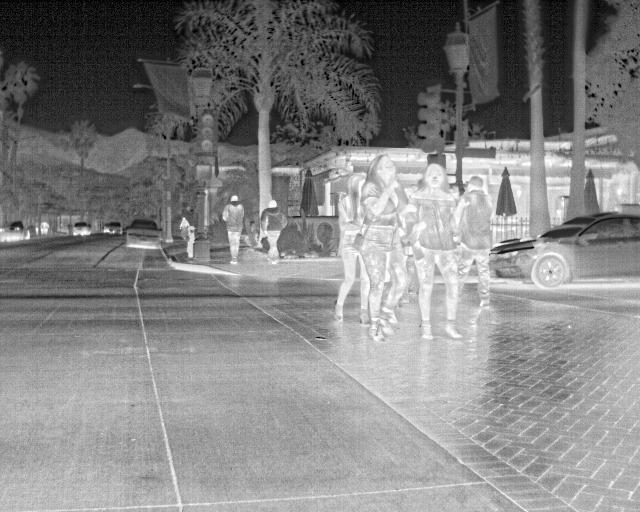bicycle: (486, 209, 637, 290), (125, 218, 163, 251), (1, 221, 30, 245), (69, 223, 96, 236), (101, 221, 122, 237)
empty: (403, 162, 468, 342), (353, 150, 409, 339), (330, 168, 372, 325), (450, 176, 495, 309), (254, 197, 288, 263), (220, 192, 244, 267), (178, 213, 192, 242)
